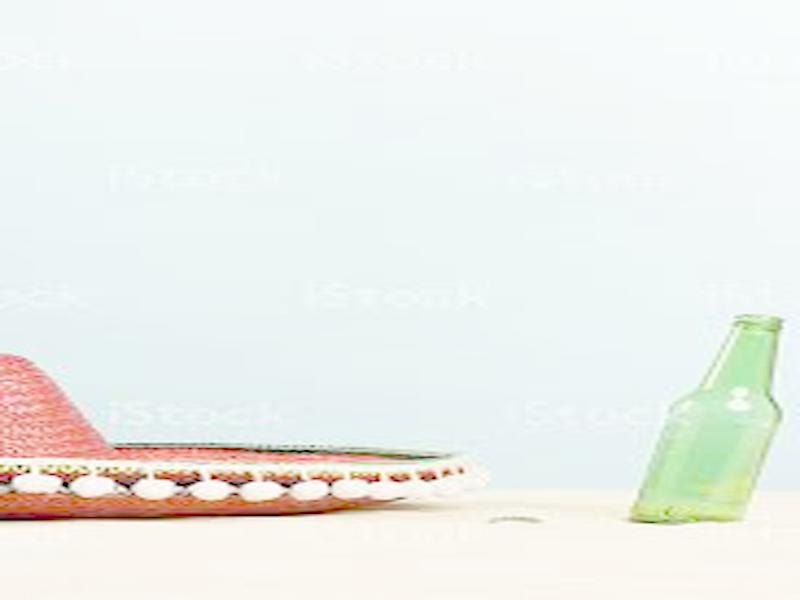Beer: (625, 312, 778, 528)
